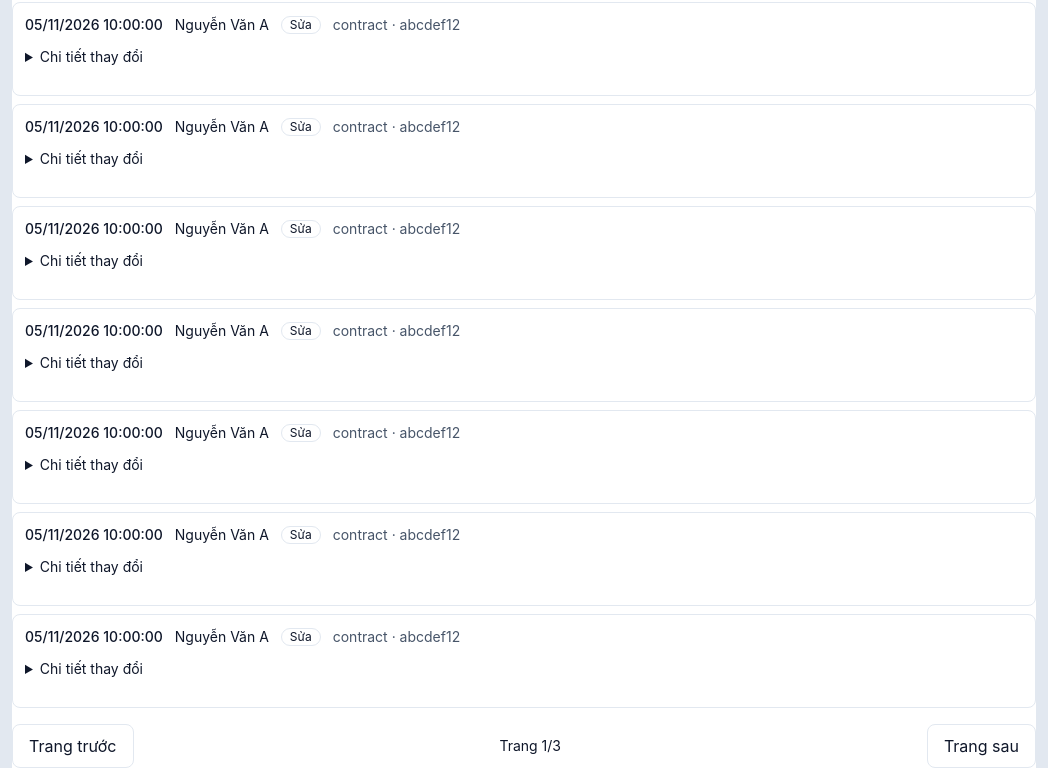
Test: AuditPage › pages through long logs and returns to page 1 when a filter changes
The image size is (1048, 768).
(page scrolled)
Expected: the text "Trang 1/3" is shown, [499,736,561,756]
Expected: the button "Trang trước" is disabled, [12,724,134,767]
Click the button "Trang sau" at (981, 746), box [927,724,1036,767]
(page scrolled)
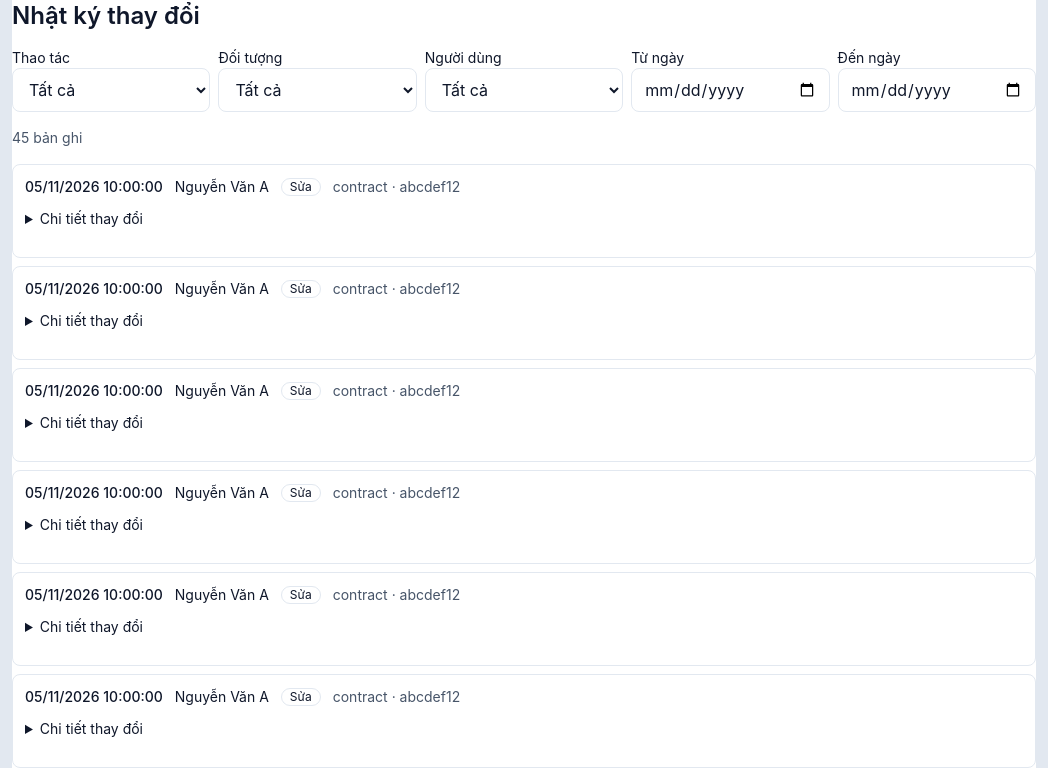
Select "Sửa" in the dropdown labelled "Thao tác" at (111, 90), box [12,68,210,112]
(page scrolled)
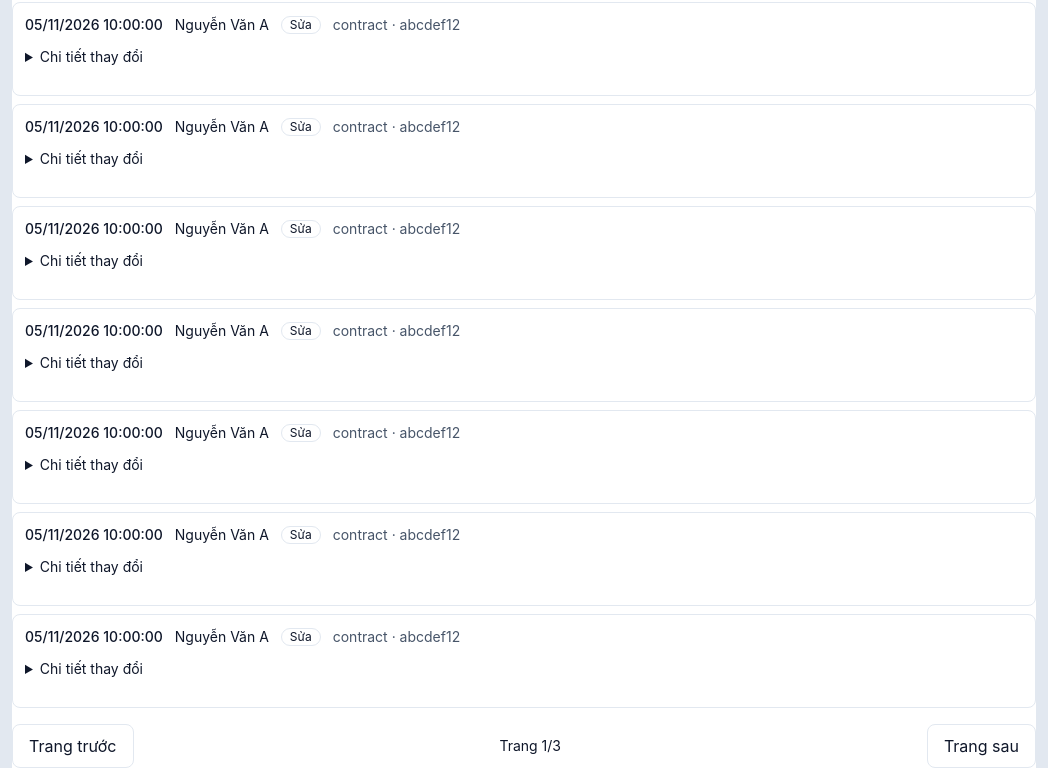
Expected: the text "Trang 1/3" is shown, [499,736,561,756]
